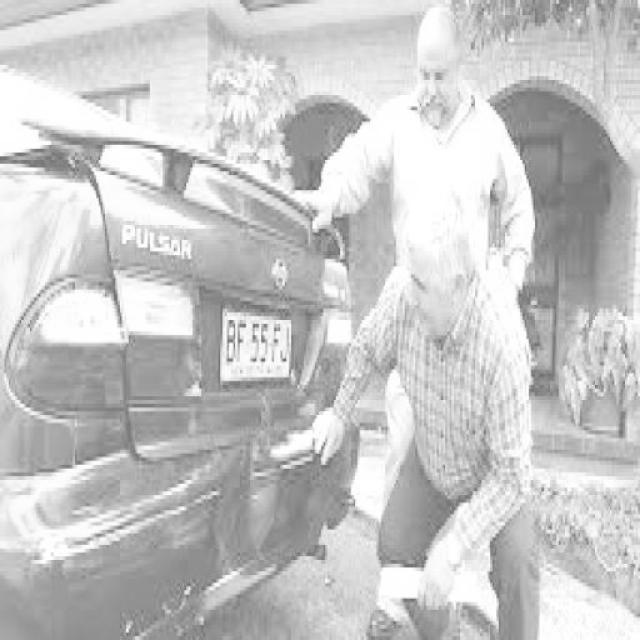car damage: (194, 371, 288, 580)
